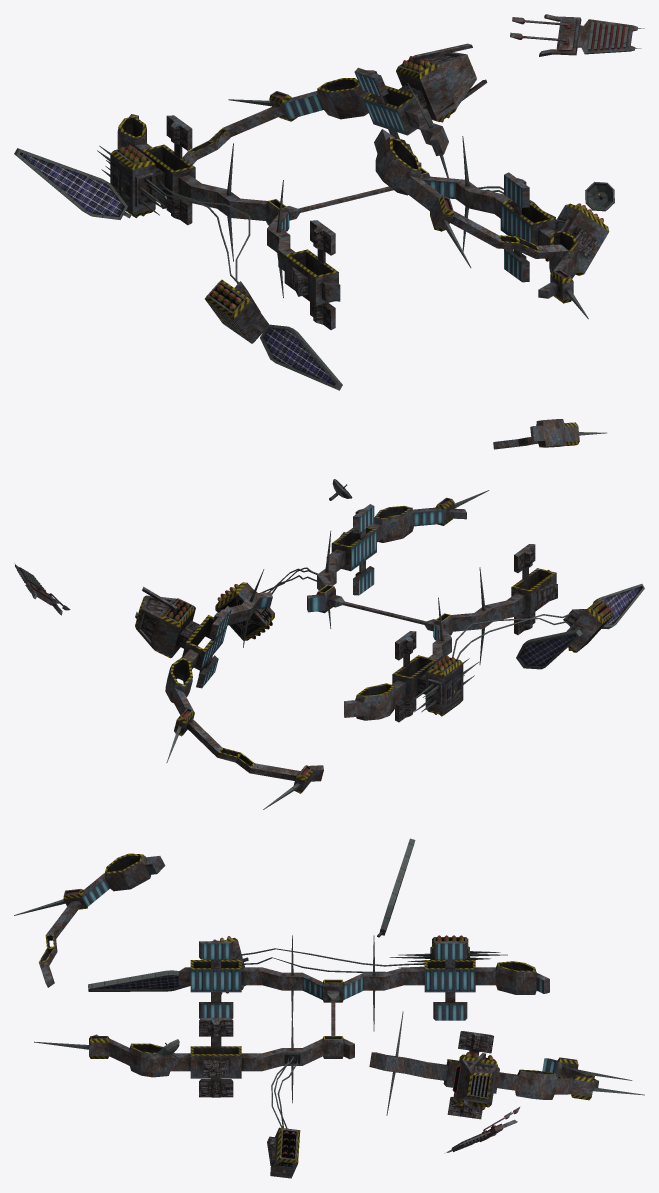
Rendered from JTL-variation2.obj.
3 views of the same model, one above another, from view 1: azimuth 30°, elevation 25°; view 2: azimuth 150°, elevation 25°; view 3: azimuth 270°, elevation 25° (orthographic). The views are drawn at different scales.
Parts seen in each view (by area): view 1: Box01; view 2: Box01; view 3: Box01.
Part boxes in pixels (bbox=[...]): Box01: bbox=[14, 14, 644, 390]; Box01: bbox=[14, 419, 644, 809]; Box01: bbox=[14, 838, 644, 1178].
Size of the model in its own units: 305 by 118 by 311.
1 material, 1 textured.
